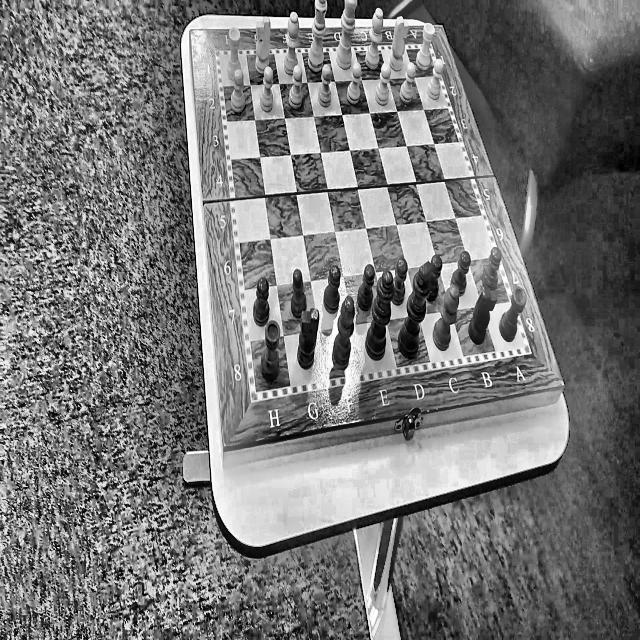chessboard: (220, 47, 523, 387)
